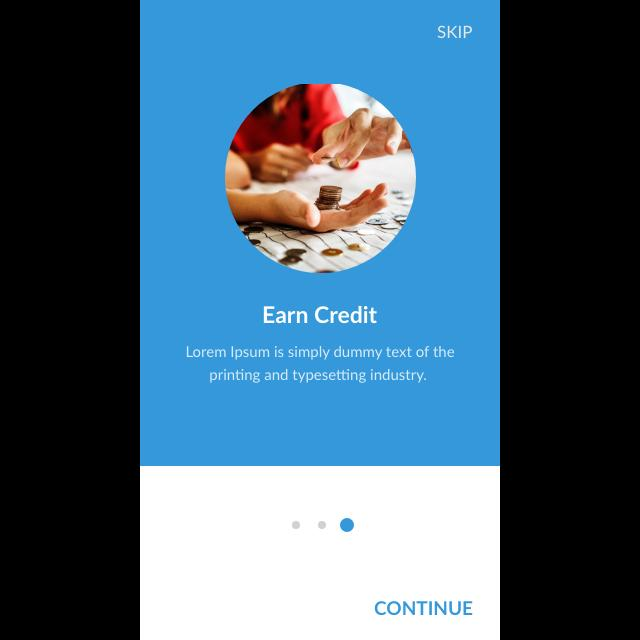image: (227, 84, 418, 274)
pageindicator: (292, 517, 356, 533)
text: (187, 346, 455, 384), (264, 306, 378, 324), (375, 600, 473, 616), (436, 26, 472, 40)
